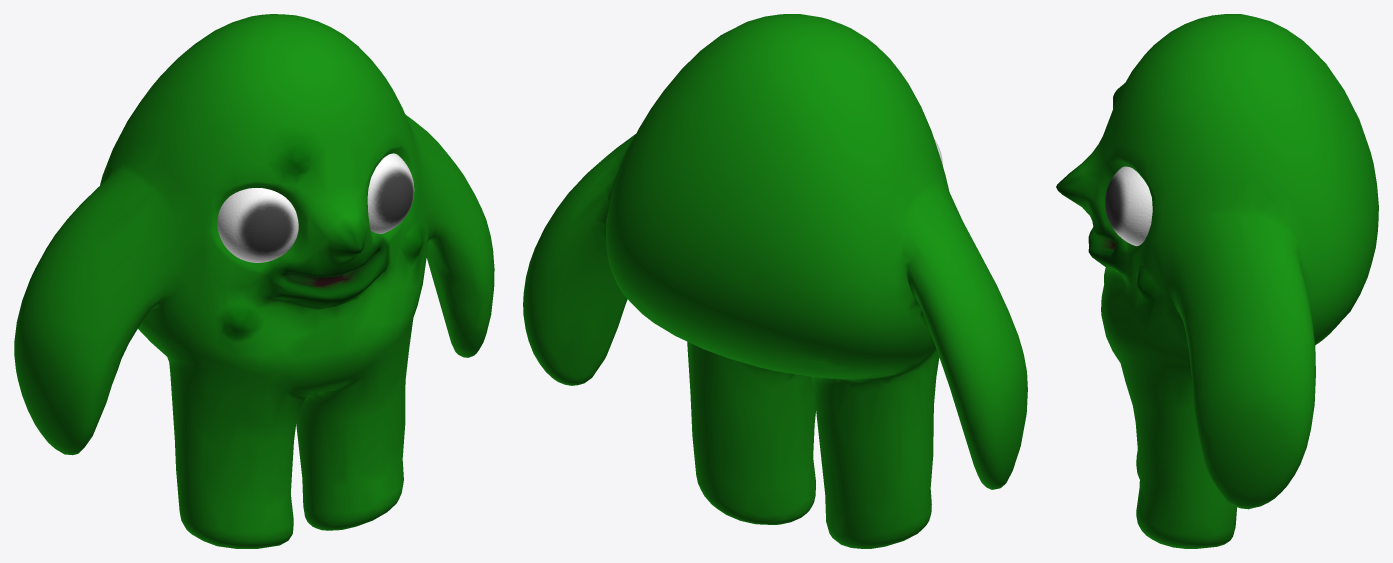
File: creature.obj
The picture shows the model from 3 angles, left to right: view 1: azimuth 30°, elevation 25°; view 2: azimuth 150°, elevation 25°; view 3: azimuth 270°, elevation 25°; orthographic projection. The views are drawn at different scales.
Visible parts, largest first — view 1: Icosphere, Icosphere.001; view 2: Icosphere; view 3: Icosphere, Icosphere.001.
Part boxes in pixels (<box>): Icosphere: <box>14,14,494,548</box>; Icosphere.001: <box>217,153,414,262</box>; Icosphere: <box>523,14,1027,548</box>; Icosphere: <box>1056,14,1378,548</box>; Icosphere.001: <box>1105,166,1152,246</box>.
Bounding box in the file's own units: 4.29 × 4.41 × 2.62.
